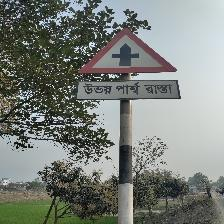Crossroad: (76, 25, 197, 110)
